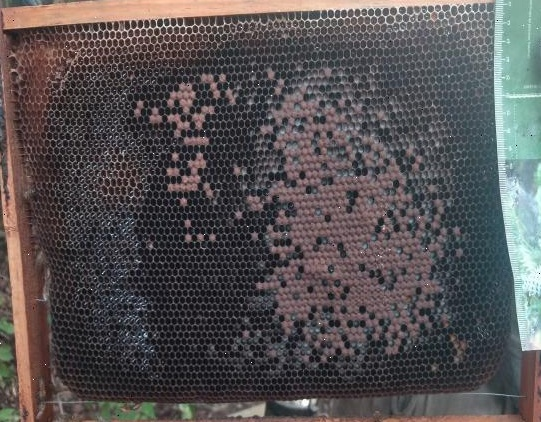cria: (132, 56, 470, 388)
